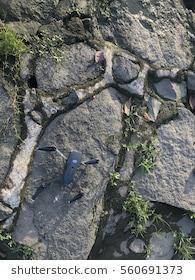drone: (15, 142, 123, 207)
